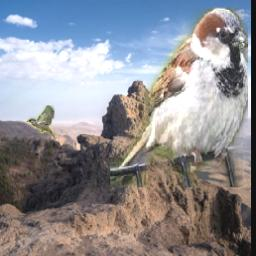Sparrow: (111, 8, 249, 187), (27, 106, 55, 139)
